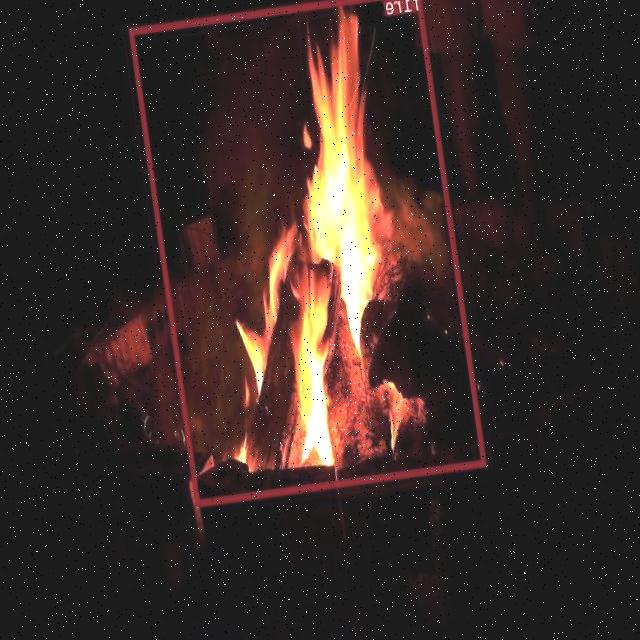fire: (130, 0, 487, 505)
